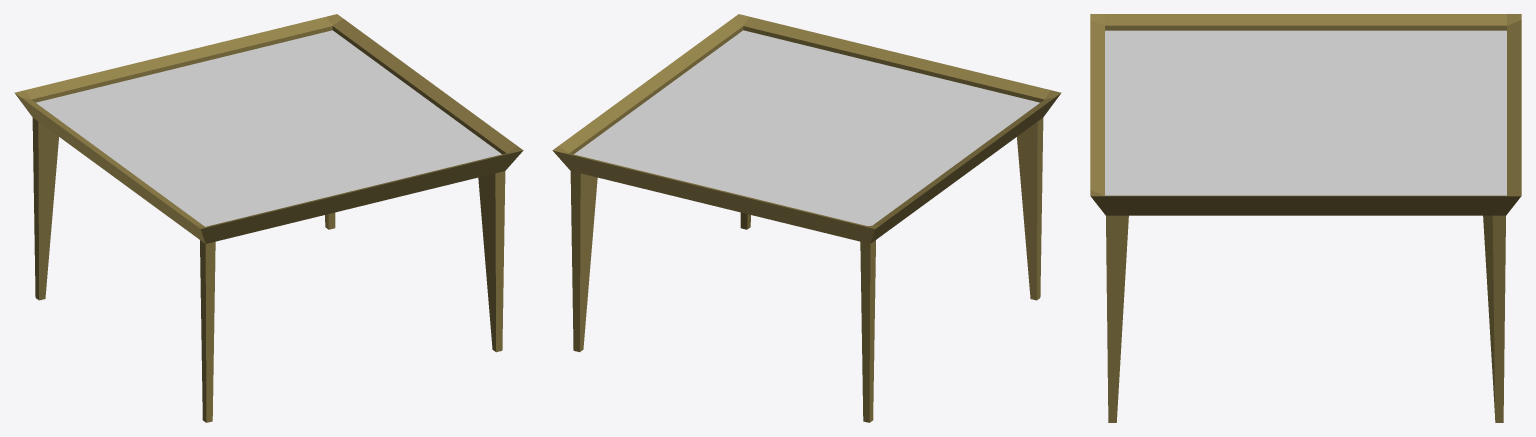
File: littleTable.fbx
3 views of the same model, side by side, from view 1: azimuth 30°, elevation 25°; view 2: azimuth 150°, elevation 25°; view 3: azimuth 270°, elevation 25° (orthographic). The views are drawn at different scales.
Visible parts, largest first — view 1: Table; view 2: Table; view 3: Table.
Part boxes in pixels (<box>): Table: <box>14,14,523,422</box>; Table: <box>552,14,1061,422</box>; Table: <box>1090,14,1521,422</box>.
Bounding box in the file's own units: 1 × 0.6 × 1.
